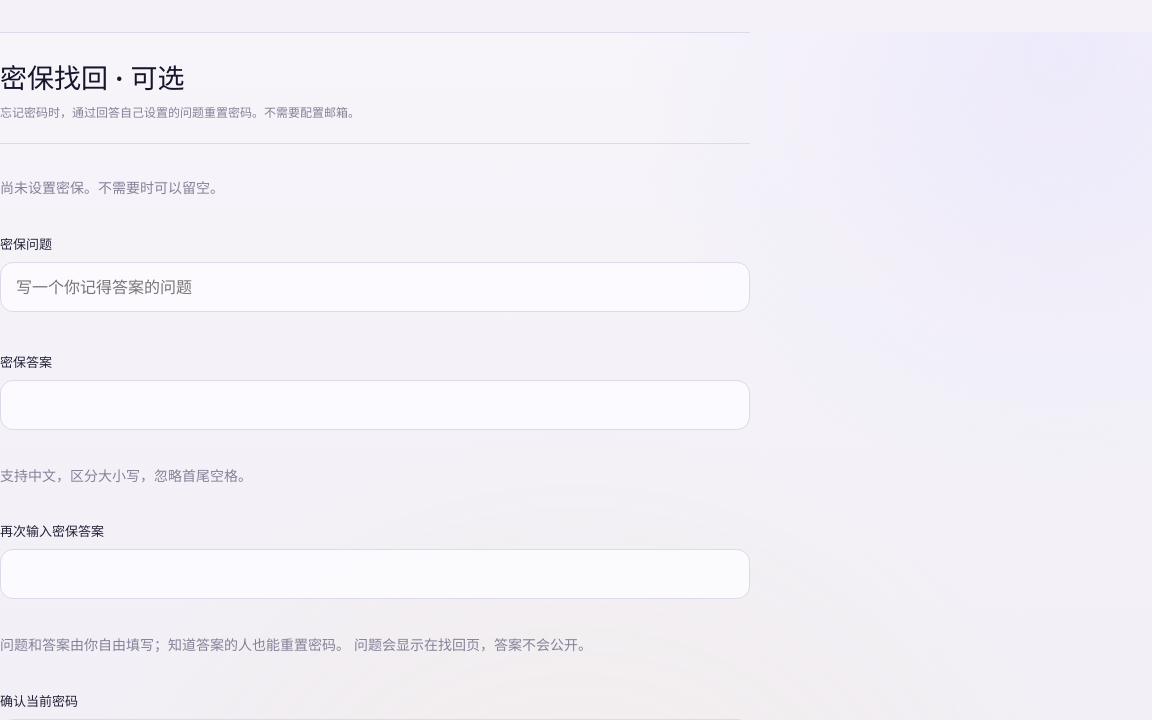
simple optional recovery UI › lets existing users add and disable recovery without displaying saved answers
Type "名字？" into the field labelled "密保问题" at [375, 287], box [0,262,750,312]
Type "小明" into the field labelled "密保答案" at [375, 405], box [0,380,750,430]
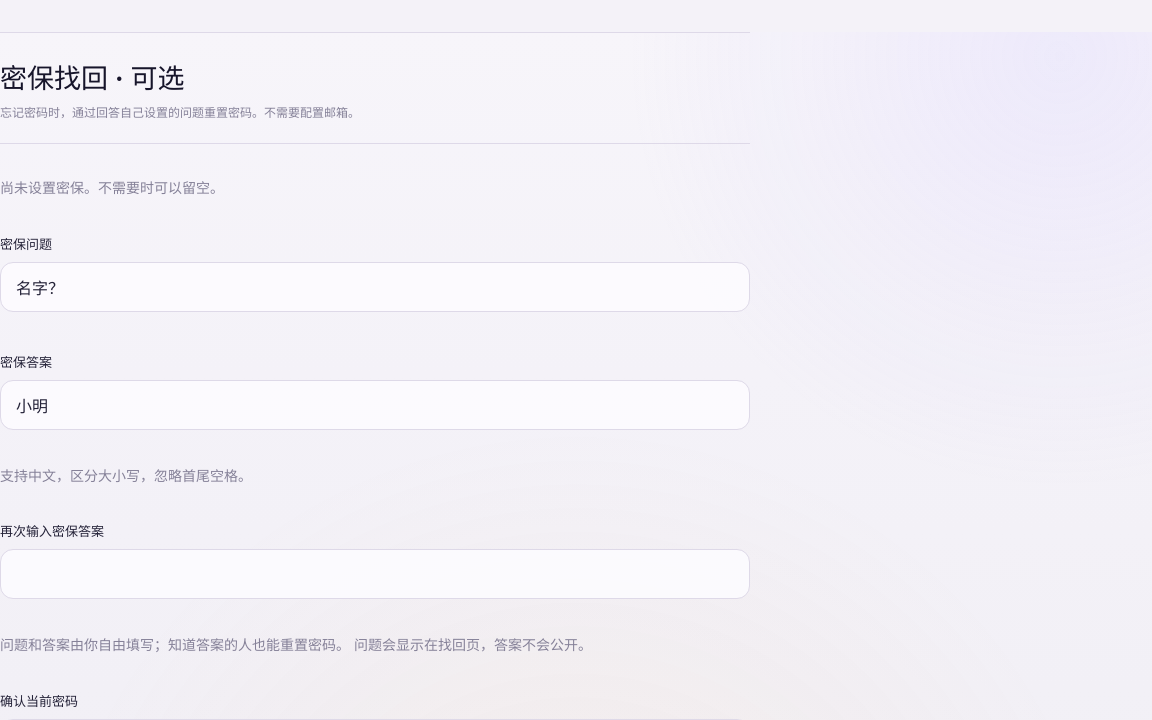
Type "小明" into the field labelled "再次输入密保答案" at [375, 574], box [0,549,750,599]
(page scrolled)
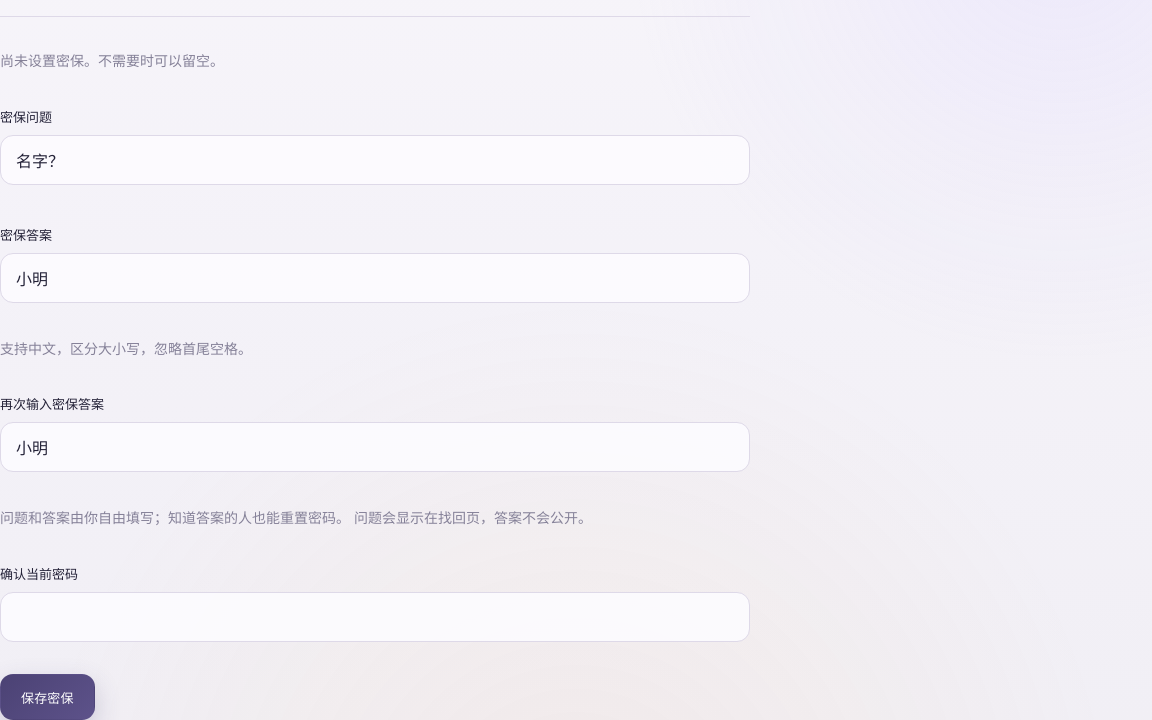
Type "current-password" into the password field labelled "确认当前密码" at [375, 617], box [0,592,750,642]
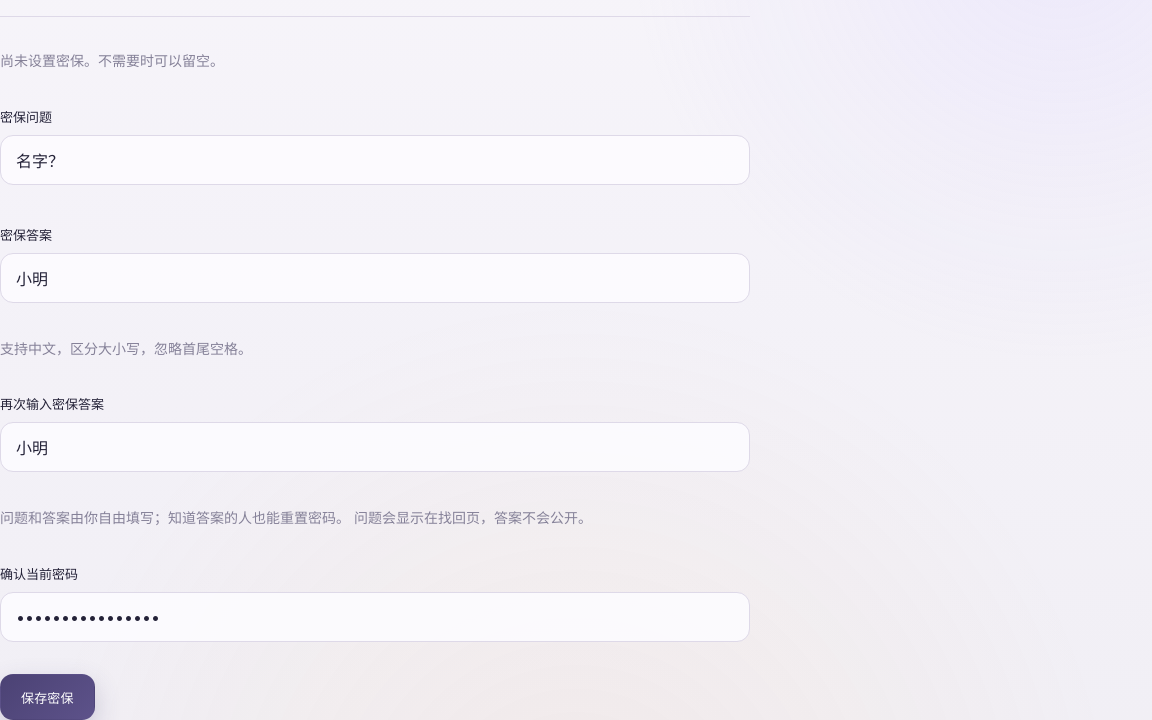
Click the button "保存密保" at [47, 697], box [0,674,94,719]
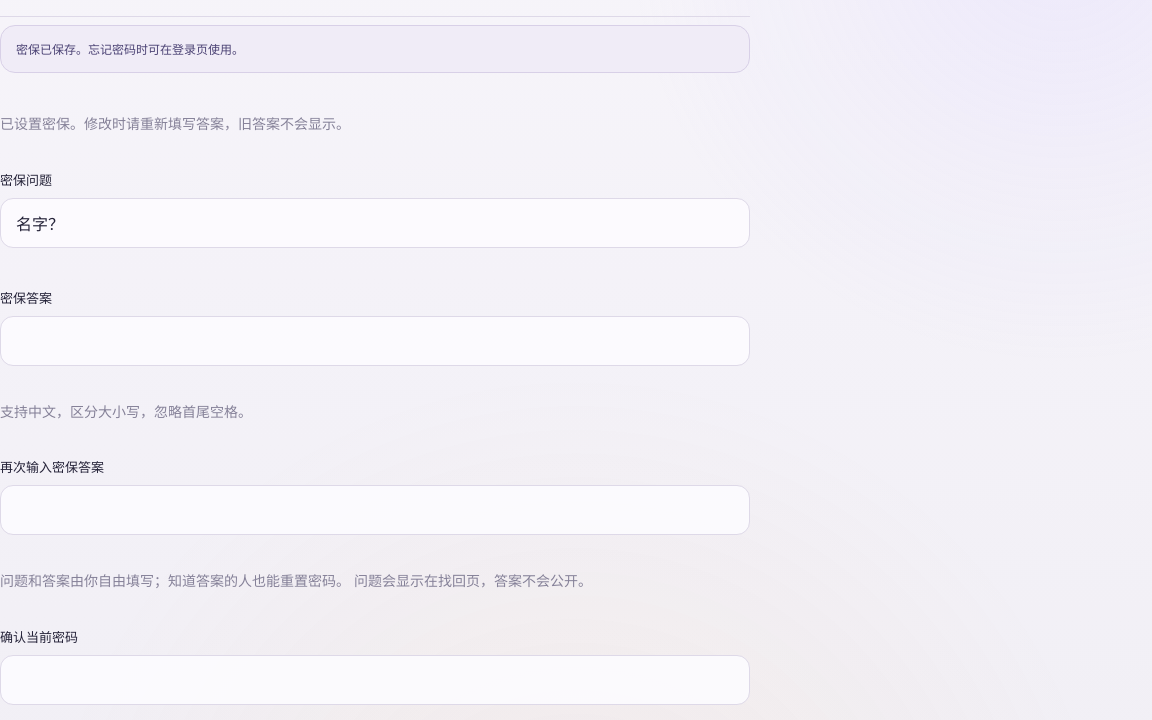
Check: the text "密保已保存。忘记密码时可在登录页使用。" is shown, box [0,25,750,73]
Check: the field labelled "密保答案" is empty, box [0,316,750,366]
Type "current-password" into the password field labelled "确认当前密码" at [375, 680], box [0,655,750,705]
(page scrolled)
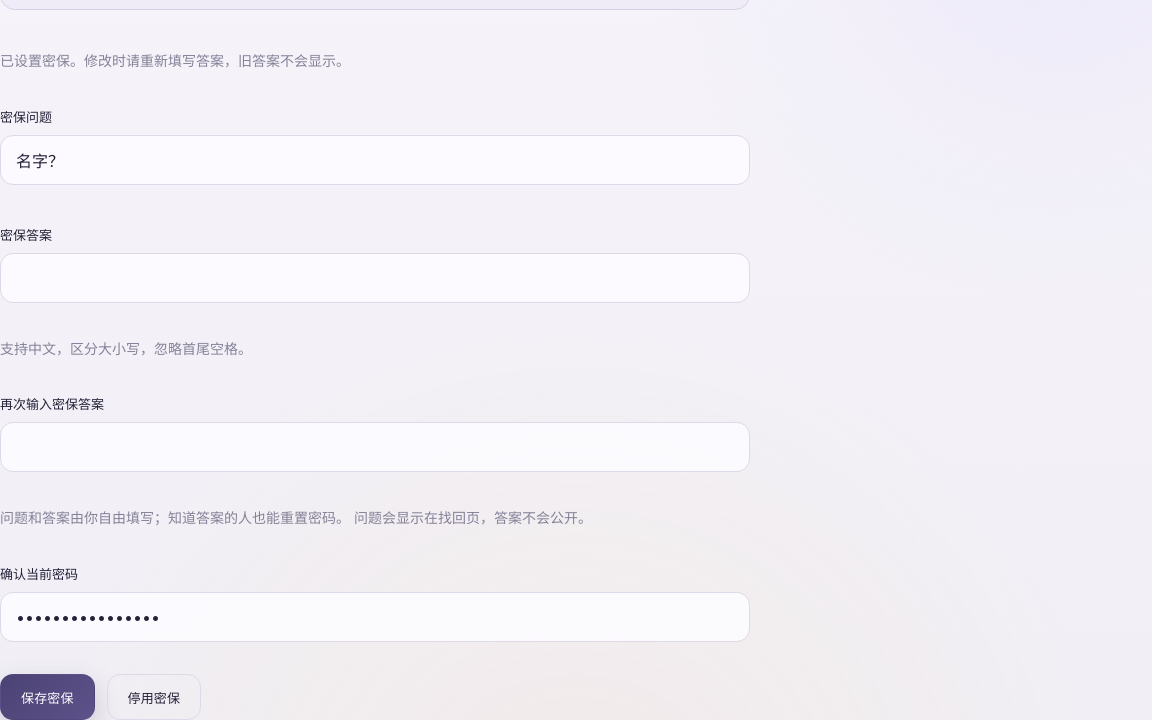
Click the button "停用密保" at [154, 697], box [106,674,201,719]
(page scrolled)
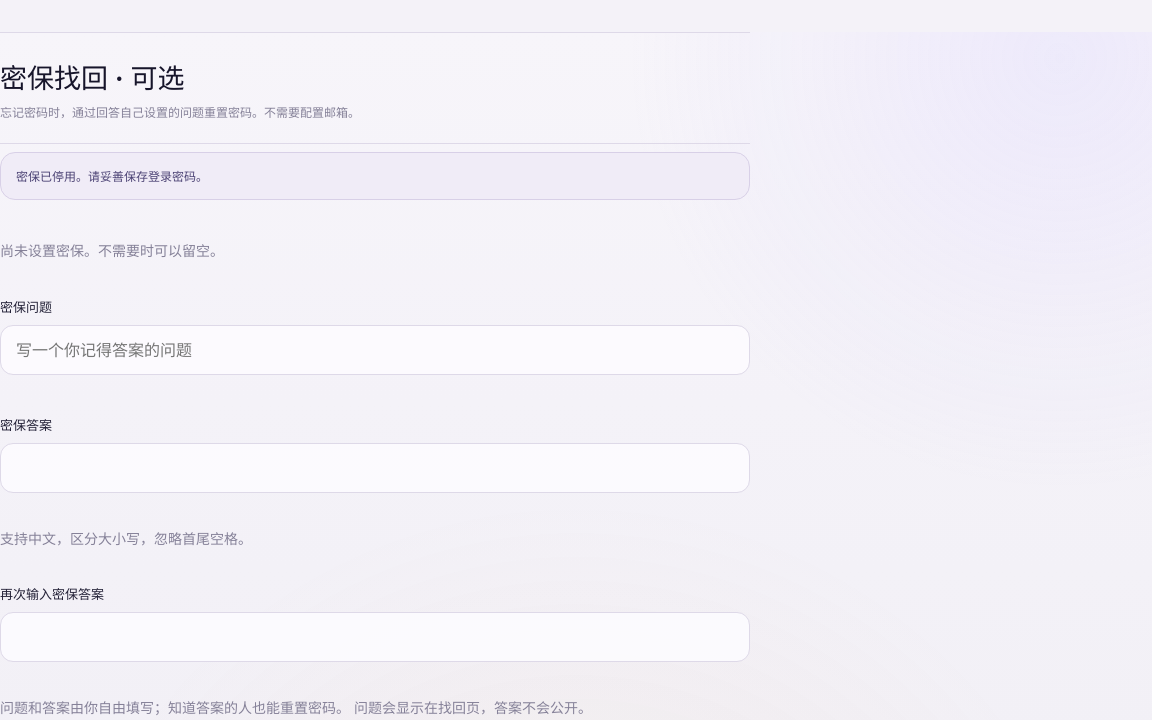
Check: the text "密保已停用。请妥善保存登录密码。" is shown, box [0,152,750,200]
